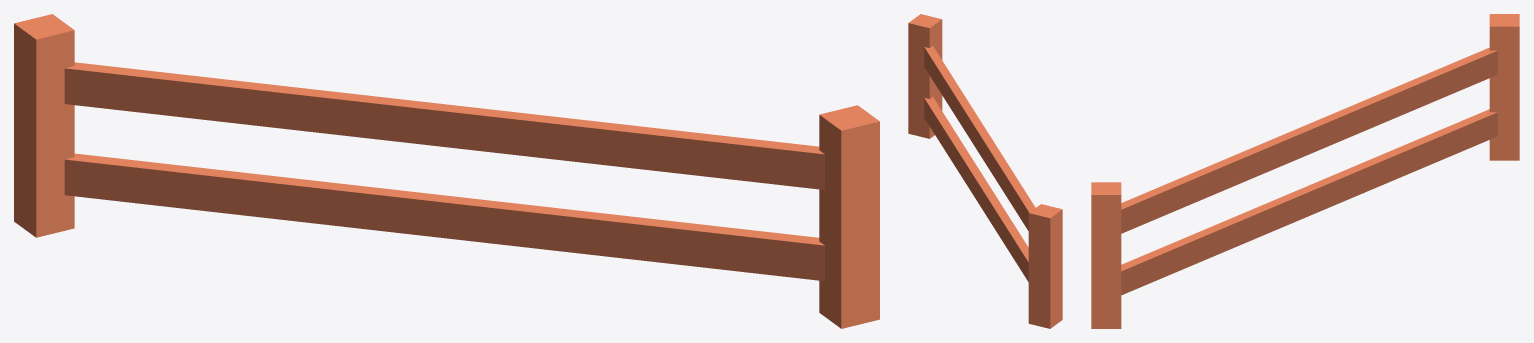
Rendered from fence_simpleDiagonal.obj.
3 views of the same model, side by side, from view 1: azimuth 30°, elevation 25°; view 2: azimuth 150°, elevation 25°; view 3: azimuth 270°, elevation 25° (orthographic). The views are drawn at different scales.
Parts seen in each view (by area): view 1: fence_simpleDiagonal; view 2: fence_simpleDiagonal; view 3: fence_simpleDiagonal.
Part boxes in pixels (x1=…): fence_simpleDiagonal: x1=14, y1=14, x2=879, y2=328; fence_simpleDiagonal: x1=908, y1=14, x2=1062, y2=328; fence_simpleDiagonal: x1=1091, y1=14, x2=1519, y2=328.
Size of the model in its own units: 1 by 0.345 by 1.
